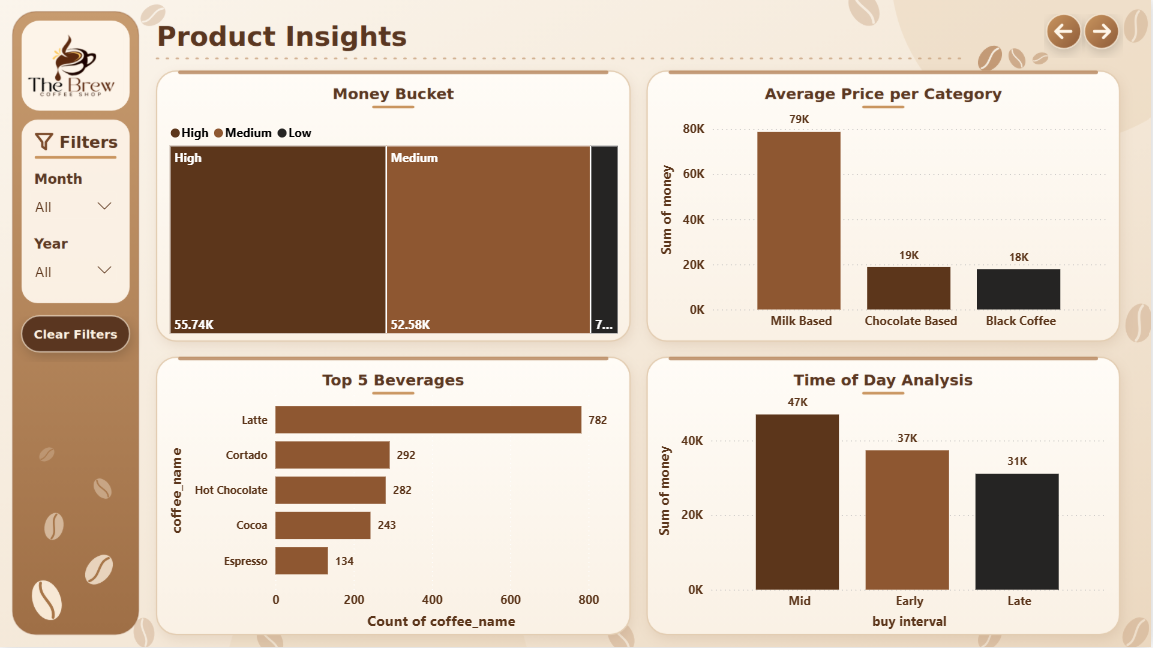

The dashboard page shown, as its layout file describes it:
{"tool":"powerbi","page":{"name":"Product Insights","canvas":[1280,720],"ordinal":1},"visuals":[{"type":"clusteredBarChart","title":"Top 5 Beverages","fields":{"Category":["index_11.coffee_name"],"Y":["CountNonNull(index_11.coffee_name)"]},"box":[183.3,423.3,508.3,281.7],"z":0},{"type":"clusteredColumnChart","title":"Time of Day Analysis","fields":{"Category":["index_11.buy interval"],"Y":["Sum(index_11.money)"]},"box":[726.7,423.3,508.3,281.7],"z":1000},{"type":"treemap","title":"Money Bucket","fields":{"Group":["index_11.money bucket"],"Values":["Sum(index_11.money)"]},"box":[183.3,128.3,508.3,248.3],"z":2000},{"type":"clusteredColumnChart","title":"Average Price per Category","fields":{"Category":["index_11.coffee_category"],"Y":["Sum(index_11.money)"]},"box":[728.3,108.3,508.3,268.3],"z":3000},{"type":"slicer","fields":{"Values":["index_11.month"]},"box":[23.3,203.3,116.7,51.1],"z":3001},{"type":"slicer","fields":{"Values":["index_11.Year"]},"box":[23.3,275.6,116.7,50],"z":3002},{"type":"actionButton","box":[1204,16,44,44],"z":3003},{"type":"actionButton","box":[1158,16,46,40],"z":3004},{"type":"actionButton","box":[23.3,356.7,116.7,35],"z":3005}]}

Visuals, with their boxes in screenshot pixels (x1, y1, x2, y2), scaled from the page's 1280x720 canvas onto the 1153x648 screenshot:
"Top 5 Beverages" clusteredBarChart: 165/381/623/634
"Time of Day Analysis" clusteredColumnChart: 655/381/1112/634
"Money Bucket" treemap: 165/115/623/339
"Average Price per Category" clusteredColumnChart: 656/97/1114/339
slicer - index_11.month: 21/183/126/229
slicer - index_11.Year: 21/248/126/293
actionButton: 1085/14/1124/54
actionButton: 1043/14/1085/50
actionButton: 21/321/126/353
